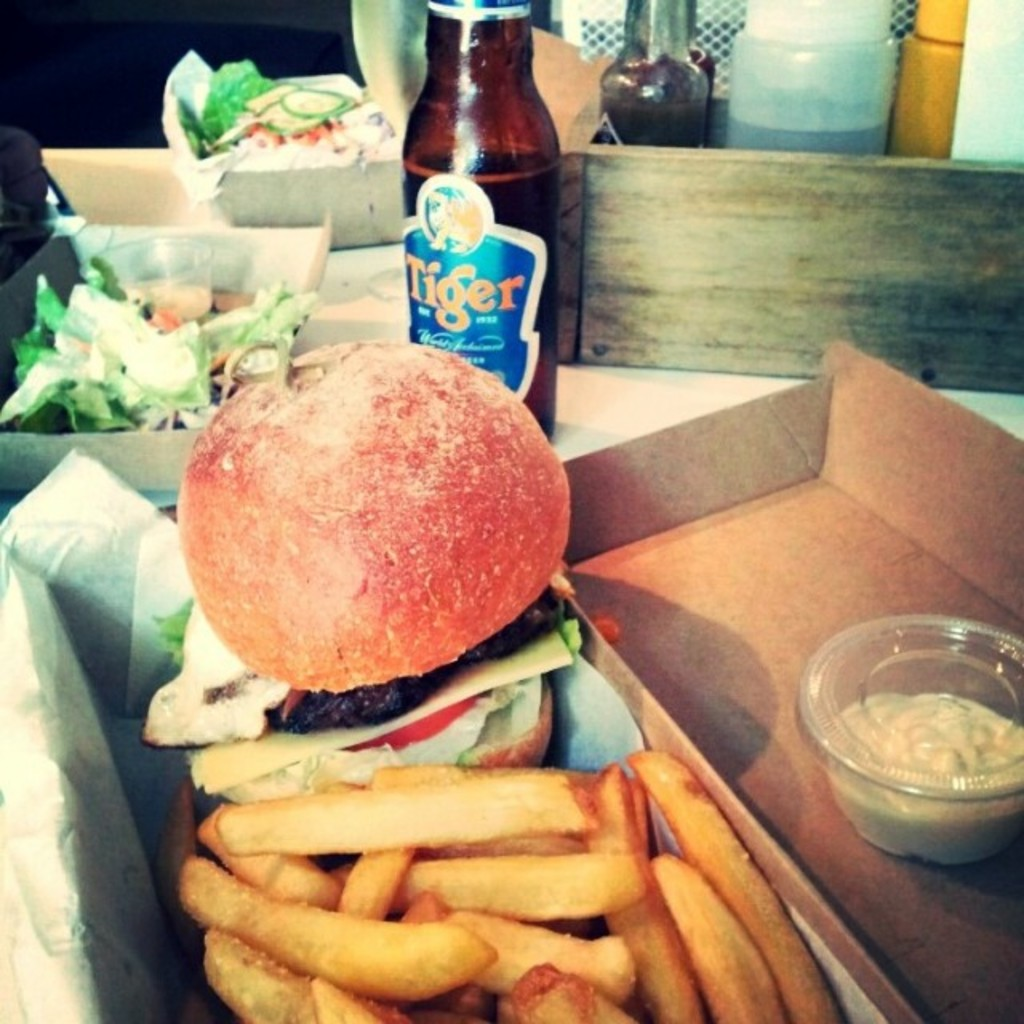French fries: (115, 718, 824, 1008)
